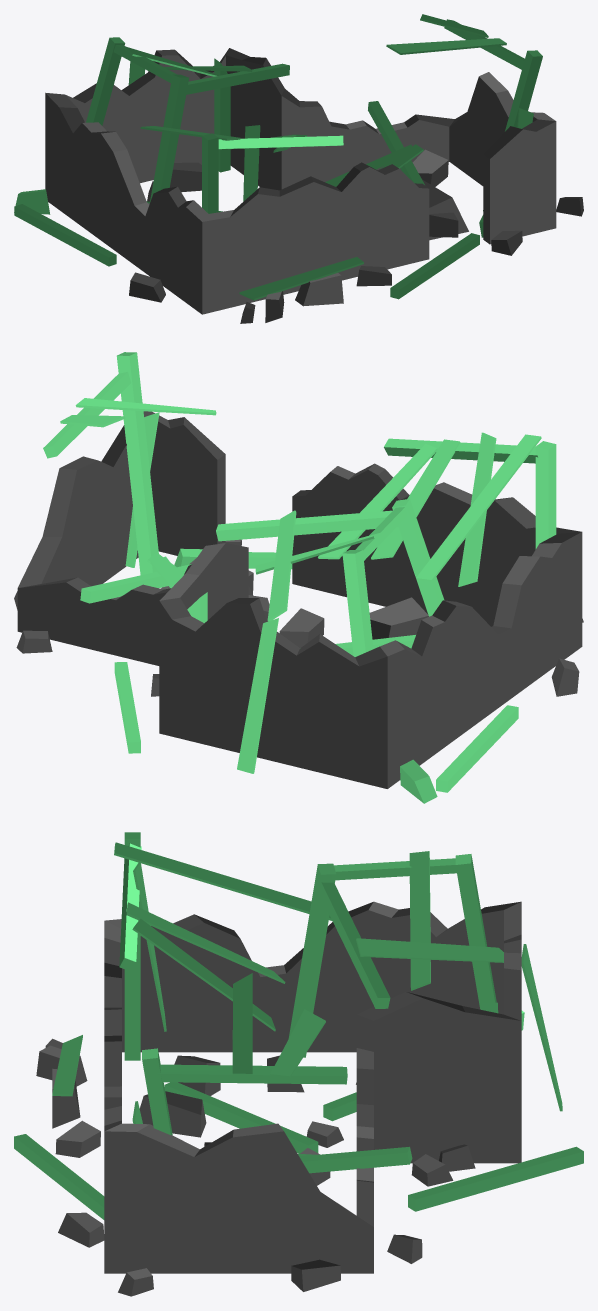
The model's file is SM_Ruins_01.fbx.
3 renders of one model, top to bottom at view 1: azimuth 30°, elevation 25°; view 2: azimuth 150°, elevation 25°; view 3: azimuth 270°, elevation 25°, orthographic. The views are drawn at different scales.
Visible parts, largest first — view 1: Cube.028; view 2: Cube.028; view 3: Cube.028.
Part boxes in pixels (bbox=[...]): Cube.028: bbox=[14, 14, 583, 323]; Cube.028: bbox=[14, 352, 583, 803]; Cube.028: bbox=[14, 832, 583, 1296].
Size of the model in its own units: 492 by 193 by 423.
